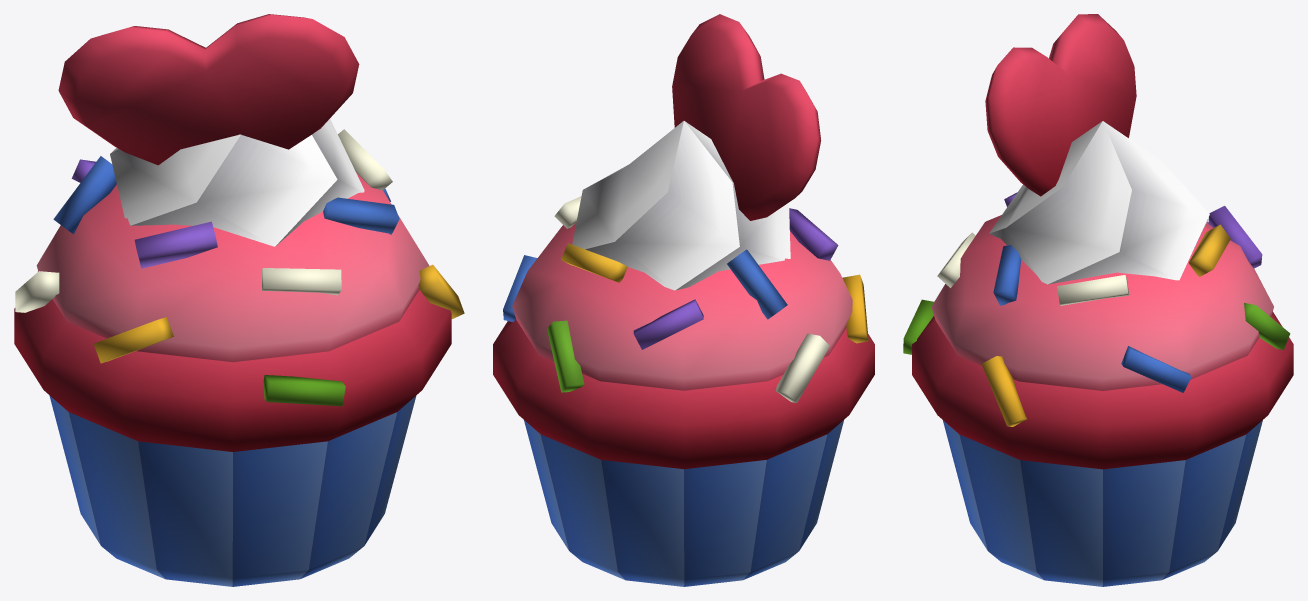
Rendered from m_Cupcake11.fbx.
The picture shows the model from 3 angles, left to right: view 1: azimuth 30°, elevation 25°; view 2: azimuth 150°, elevation 25°; view 3: azimuth 270°, elevation 25°; orthographic projection. The views are drawn at different scales.
Parts seen in each view (by area): view 1: m_Cupcake11; view 2: m_Cupcake11; view 3: m_Cupcake11.
Part boxes in pixels (box(x1,y1,x2,y2)): m_Cupcake11: box(14, 14, 464, 586); m_Cupcake11: box(493, 14, 874, 586); m_Cupcake11: box(903, 14, 1293, 586).
Size of the model in its own units: 11.39 by 15.96 by 11.65.
